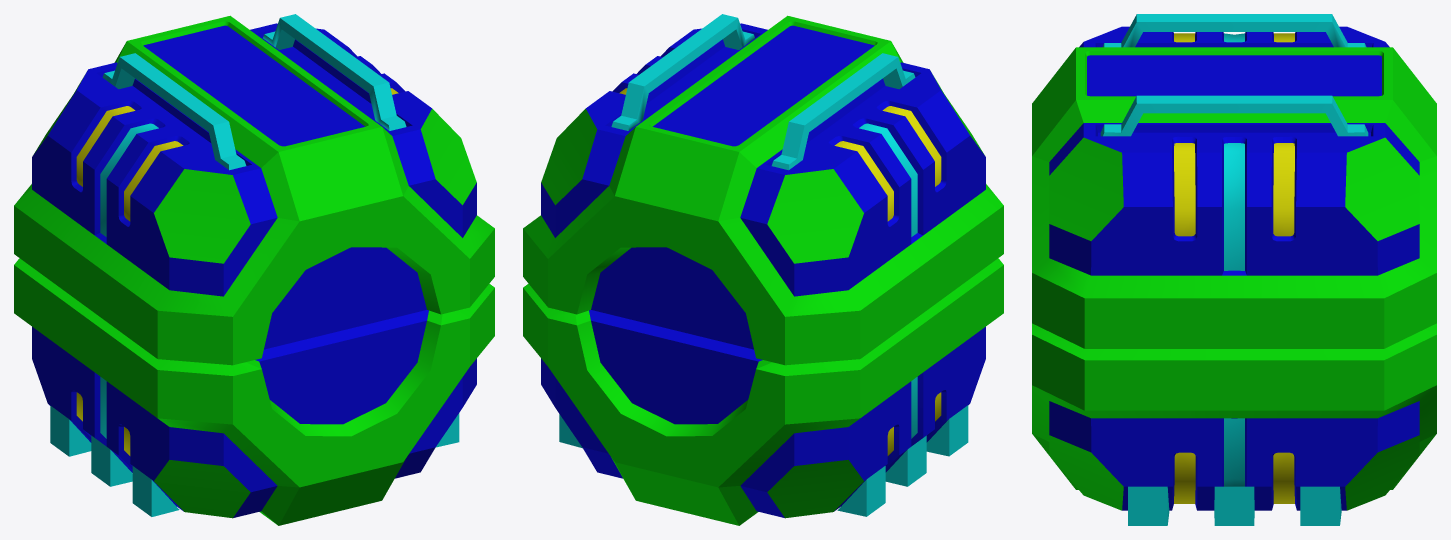
The model's file is SM0035_Scifi_Crate_01.fbx.
3 renders of one model, left to right at view 1: azimuth 30°, elevation 25°; view 2: azimuth 150°, elevation 25°; view 3: azimuth 270°, elevation 25°, orthographic. The views are drawn at different scales.
Visible parts, largest first — view 1: SM0035_Scifi_Crate_01.001; view 2: SM0035_Scifi_Crate_01.001; view 3: SM0035_Scifi_Crate_01.001.
Part boxes in pixels (box(x1,y1,x2,y2)): SM0035_Scifi_Crate_01.001: box(14, 14, 494, 525); SM0035_Scifi_Crate_01.001: box(523, 14, 1003, 525); SM0035_Scifi_Crate_01.001: box(1032, 14, 1436, 525).
Size of the model in its own units: 329 by 362 by 328.
